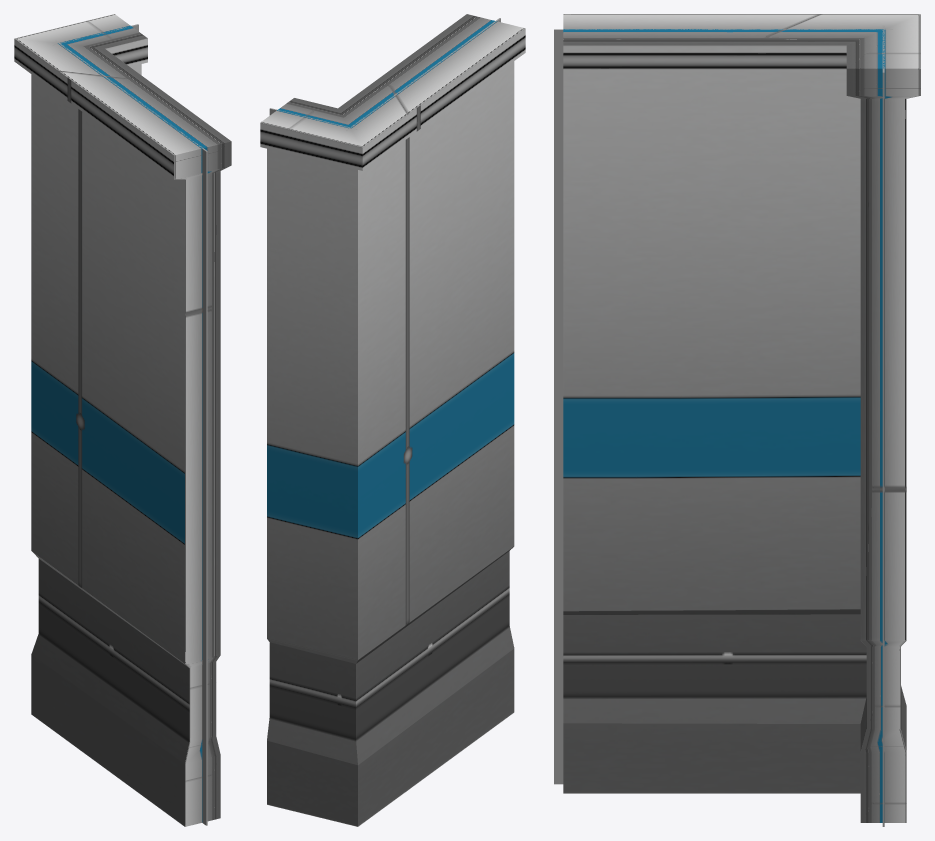
Rendered from CRR_SM_LU_BB.fbx.
3 views of the same model, side by side, from view 1: azimuth 30°, elevation 25°; view 2: azimuth 150°, elevation 25°; view 3: azimuth 270°, elevation 25° (orthographic). The views are drawn at different scales.
Visible parts, largest first — view 1: CRR_SM_LU_BB; view 2: CRR_SM_LU_BB; view 3: CRR_SM_LU_BB.
Boxes of the visible parts, x1,y1,x2,y2 form: CRR_SM_LU_BB: [14, 14, 231, 826]; CRR_SM_LU_BB: [260, 14, 525, 826]; CRR_SM_LU_BB: [554, 14, 920, 826].
Size of the model in its own units: 0.751 by 4.5 by 1.98.
